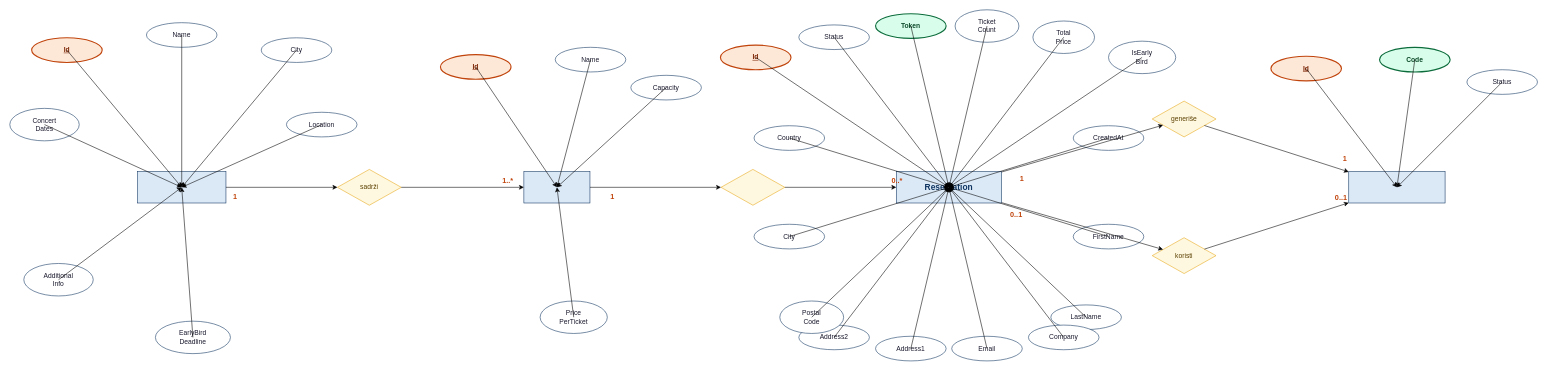
Image size: 1547x371. Some labels were removed from this diagram. Here are the shapes that lost their labels. From the top down, the centre of each, then its label:
At (x=181, y=187): "Concert".
At (x=556, y=187): "Zone".
At (x=752, y=187): "prima".
At (x=1396, y=187): "PromoCode".
